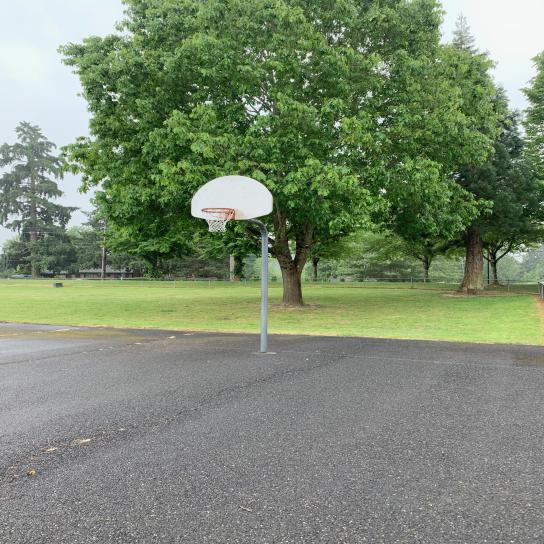basketball-hoop: (200, 207, 236, 233)
